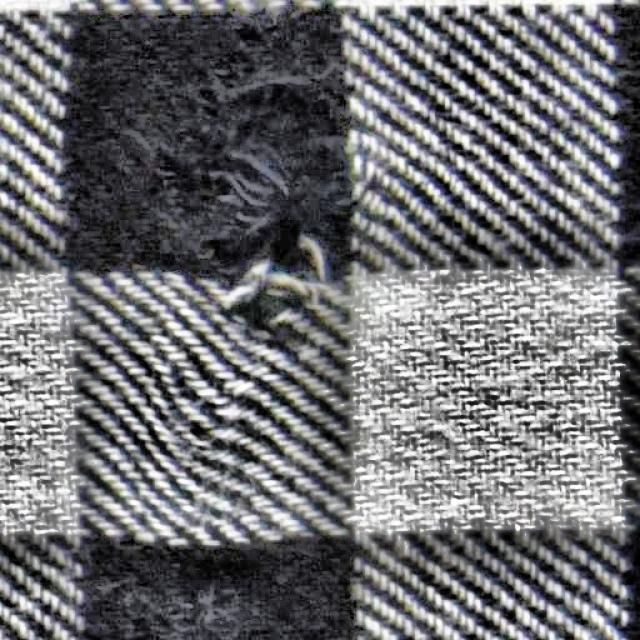Stitch: (105, 42, 433, 446)
